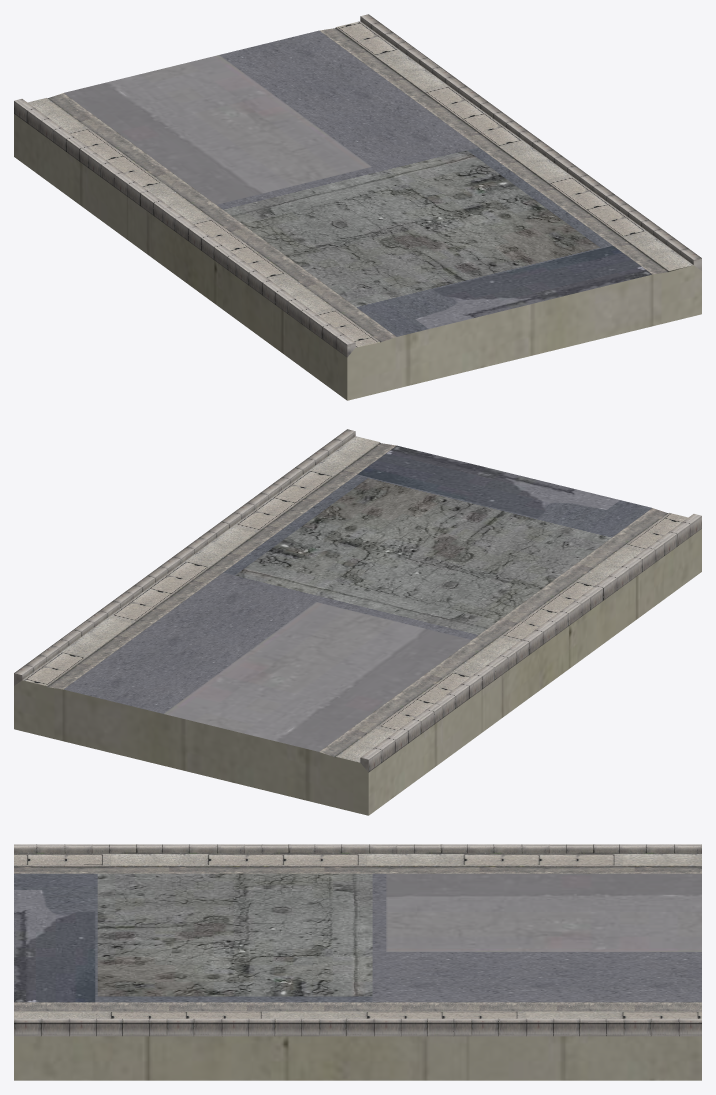
Rendered from road_c1_st1.fbx.
The picture shows the model from 3 angles, top to bottom: view 1: azimuth 30°, elevation 25°; view 2: azimuth 150°, elevation 25°; view 3: azimuth 270°, elevation 25°; orthographic projection. The views are drawn at different scales.
Visible parts, largest first — view 1: road_c1_st1; view 2: road_c1_st1; view 3: road_c1_st1.
Boxes of the visible parts, box(x1,y1,x2,y2) form: road_c1_st1: box(14, 14, 701, 400); road_c1_st1: box(14, 429, 701, 815); road_c1_st1: box(14, 844, 701, 1080).
Bounding box in the file's own units: 430 × 65 × 700.
